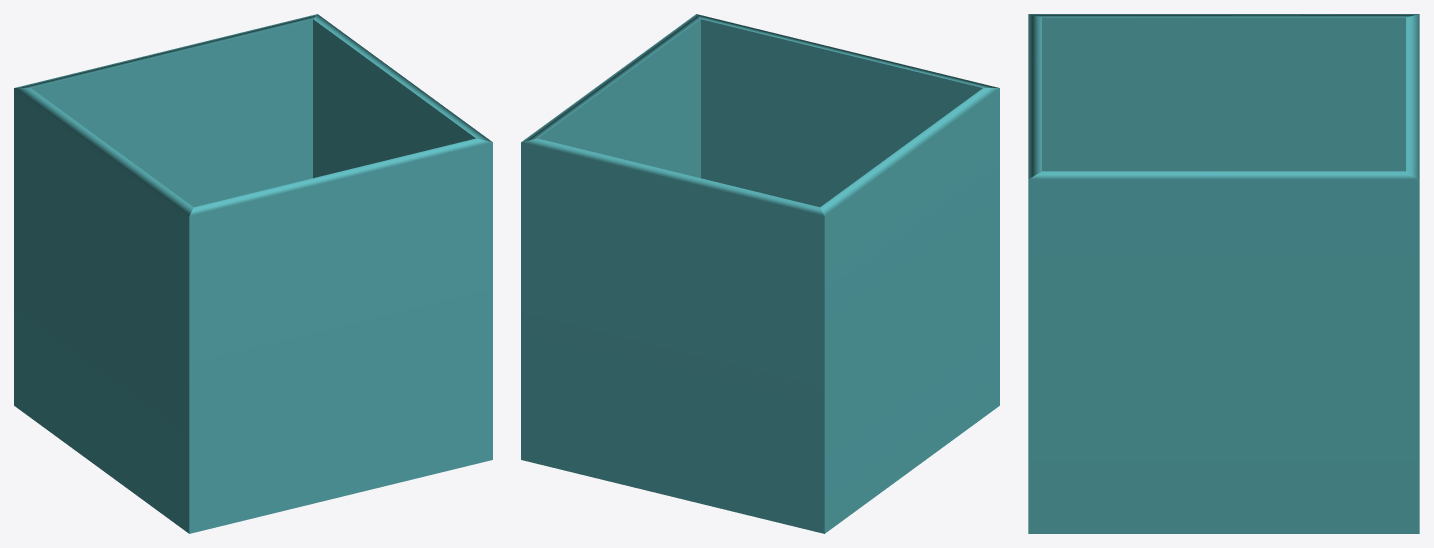
The model's file is prop_crate_austin.fbx.
3 views of the same model, side by side, from view 1: azimuth 30°, elevation 25°; view 2: azimuth 150°, elevation 25°; view 3: azimuth 270°, elevation 25° (orthographic). The views are drawn at different scales.
Visible parts, largest first — view 1: prop_crate_austin; view 2: prop_crate_austin; view 3: prop_crate_austin.
Part boxes in pixels (box(x1,y1,x2,y2)): prop_crate_austin: box(14, 14, 492, 533); prop_crate_austin: box(521, 14, 999, 533); prop_crate_austin: box(1028, 14, 1419, 533).
Bounding box in the file's own units: 2.48 × 2.49 × 2.48.
